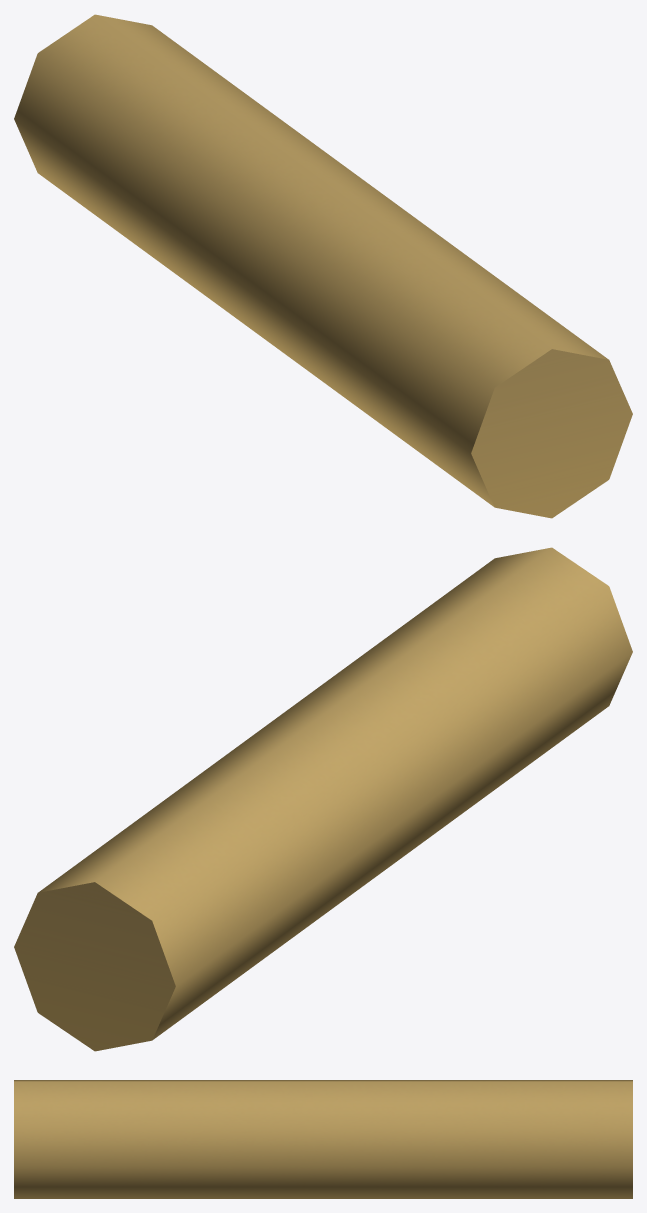
The model's file is axle_hor_rotator.glb.
3 renders of one model, top to bottom at view 1: azimuth 30°, elevation 25°; view 2: azimuth 150°, elevation 25°; view 3: azimuth 270°, elevation 25°, orthographic. The views are drawn at different scales.
Visible parts, largest first — view 1: AxleHor_rotator; view 2: AxleHor_rotator; view 3: AxleHor_rotator.
Boxes of the visible parts, x1=… form: AxleHor_rotator: x1=14, y1=14, x2=632, y2=518; AxleHor_rotator: x1=14, y1=547, x2=632, y2=1051; AxleHor_rotator: x1=14, y1=1080, x2=632, y2=1198.
Bounding box in the file's own units: 0.409 × 0.409 × 2.
1 material, 1 textured.
